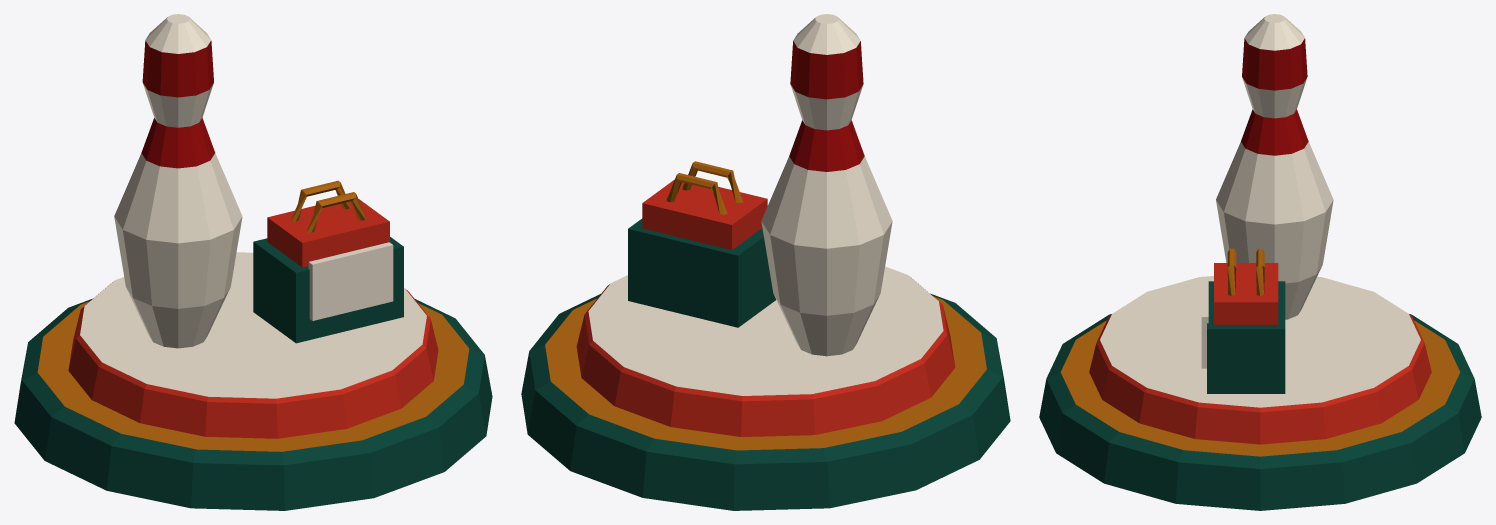
File: cozy_bowling_window_display_podium.obj
The picture shows the model from 3 angles, left to right: view 1: azimuth 30°, elevation 25°; view 2: azimuth 150°, elevation 25°; view 3: azimuth 270°, elevation 25°; orthographic projection. The views are drawn at different scales.
Parts seen in each view (by area): view 1: Podium_Mesh; view 2: Podium_Mesh; view 3: Podium_Mesh.
Part boxes in pixels (x1=…): Podium_Mesh: x1=14, y1=14, x2=492, y2=510; Podium_Mesh: x1=521, y1=14, x2=1010, y2=510; Podium_Mesh: x1=1039, y1=14, x2=1481, y2=510.
Bounding box in the file's own units: 1.24 × 1.14 × 1.24.
